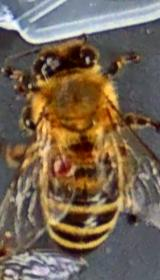varroa_mite: (48, 147, 86, 178)
